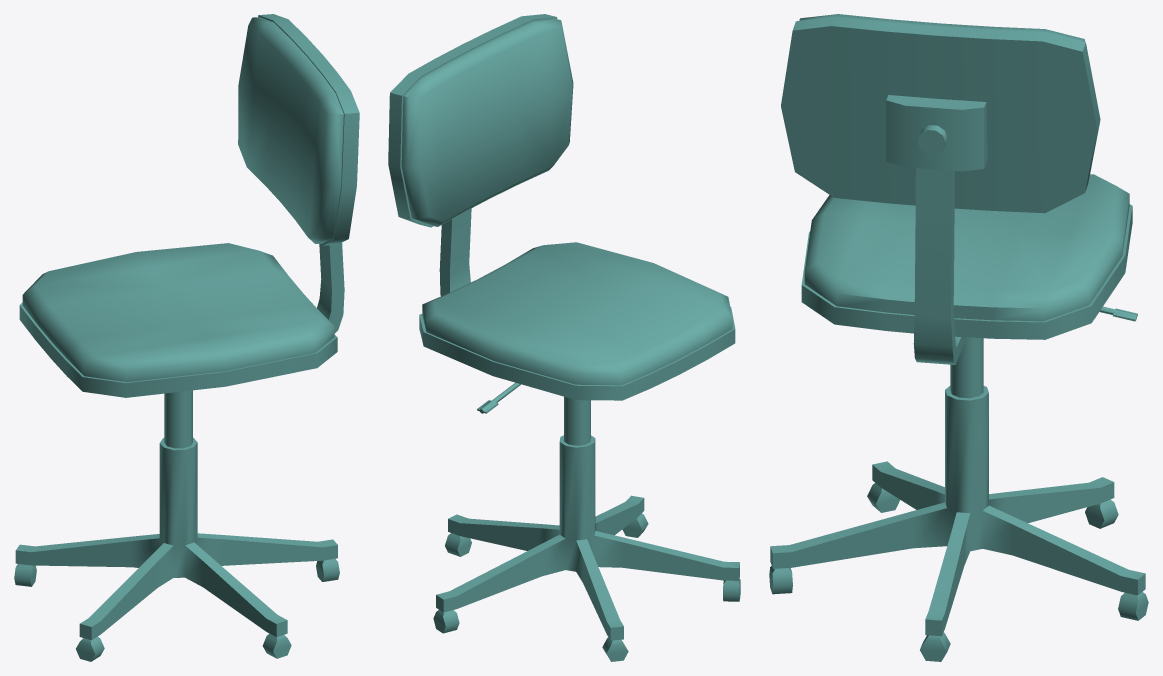
The model's file is chair_v5.glb.
3 views of the same model, side by side, from view 1: azimuth 30°, elevation 25°; view 2: azimuth 150°, elevation 25°; view 3: azimuth 270°, elevation 25° (orthographic). The views are drawn at different scales.
Visible parts, largest first — view 1: Chair; view 2: Chair; view 3: Chair.
Part boxes in pixels (x1,y1,x2,y2): Chair: (14,14,359,661); Chair: (388,14,740,661); Chair: (769,14,1148,661).
Size of the model in its own units: 1.21 by 2.12 by 1.17.
